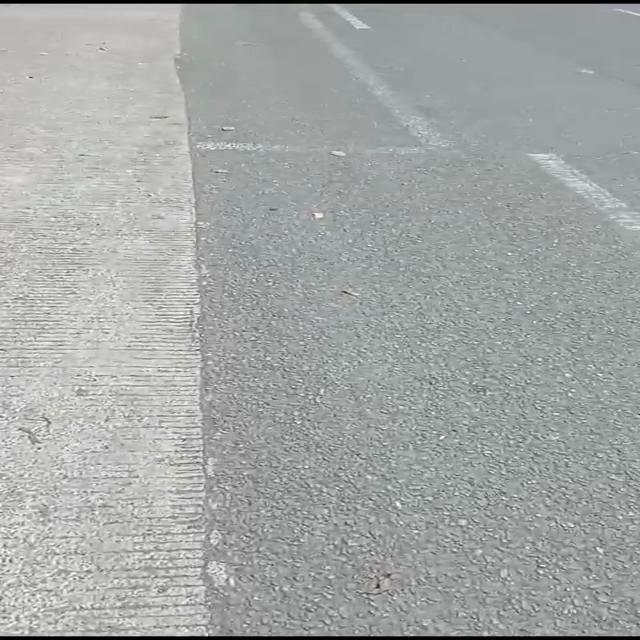Sambungan: (0, 0, 208, 640)
